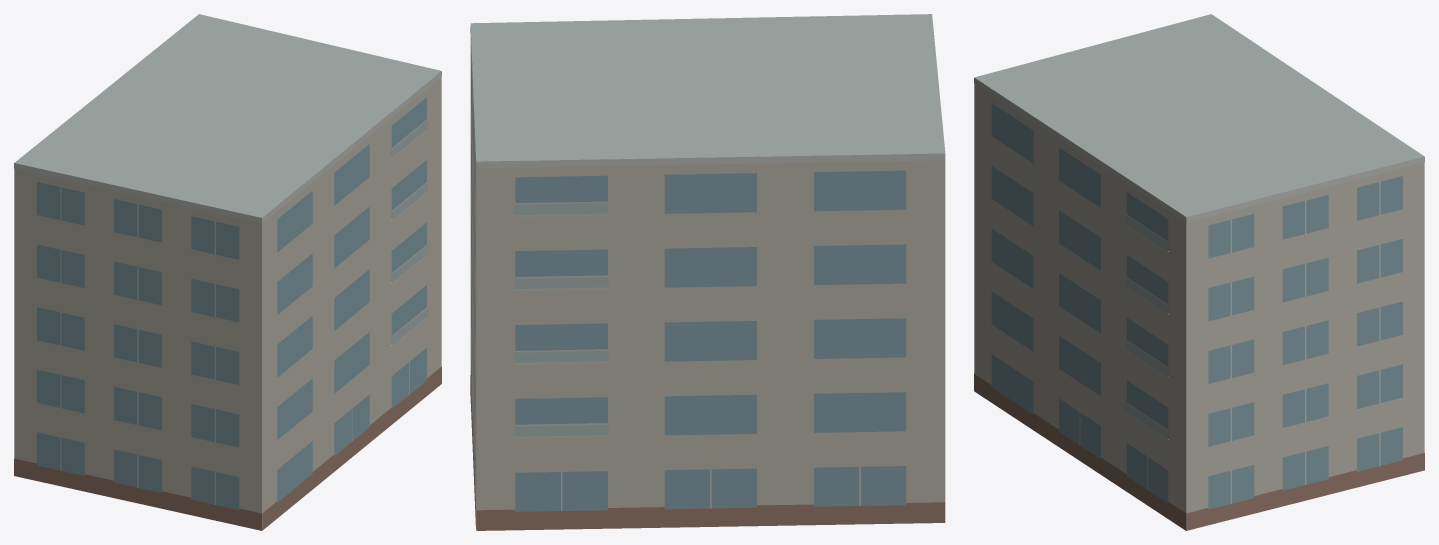
File: survey-upis-32964187.glb
The picture shows the model from 3 angles, left to right: view 1: azimuth 30°, elevation 25°; view 2: azimuth 150°, elevation 25°; view 3: azimuth 270°, elevation 25°; orthographic projection. The views are drawn at different scales.
Visible parts, largest first — view 1: survey-upis-32964187.tmp; view 2: survey-upis-32964187.tmp; view 3: survey-upis-32964187.tmp.
Boxes of the visible parts, bbox=[...] form: survey-upis-32964187.tmp: bbox=[14, 14, 441, 530]; survey-upis-32964187.tmp: bbox=[470, 14, 945, 530]; survey-upis-32964187.tmp: bbox=[974, 14, 1424, 530].
Size of the model in its own units: 18.47 by 13.3 by 17.32.
